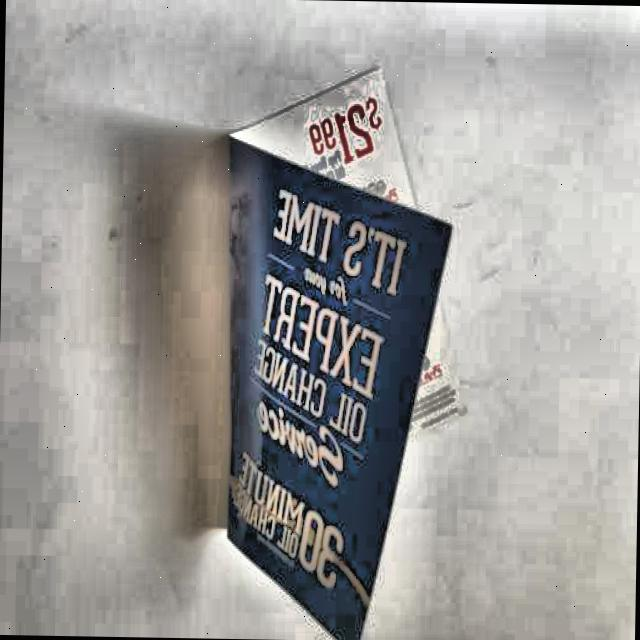paper: (220, 68, 463, 628)
